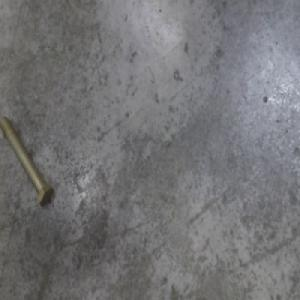Bolt: (0, 105, 52, 207)
